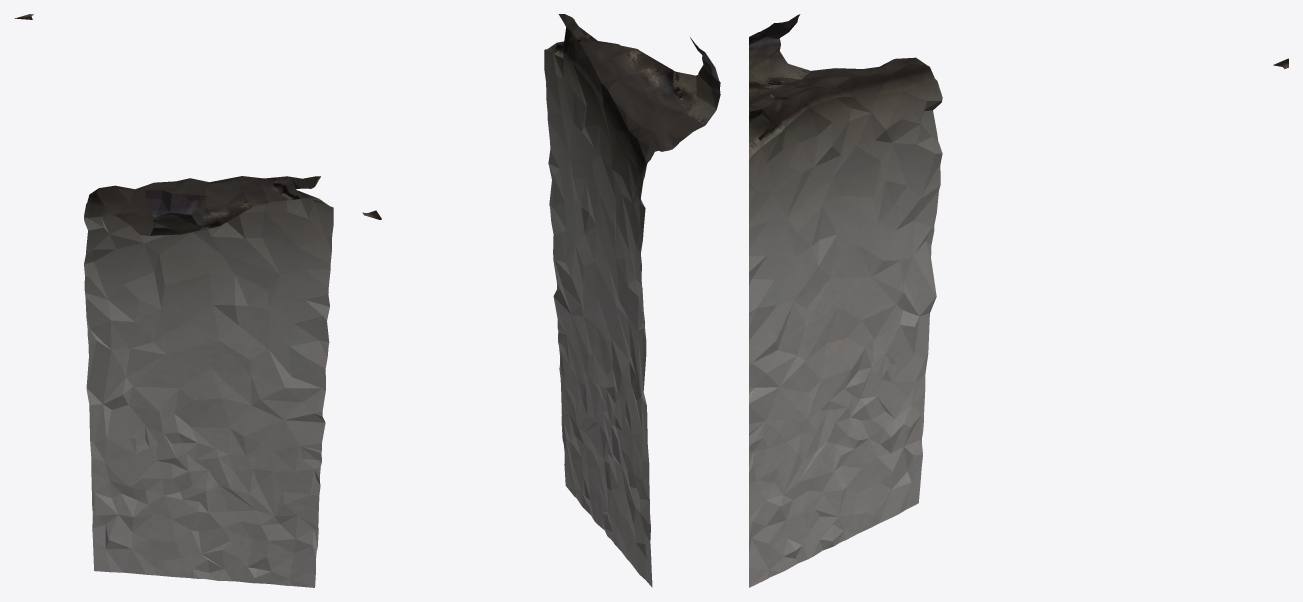
3 views of the same model, side by side, from view 1: azimuth 30°, elevation 25°; view 2: azimuth 150°, elevation 25°; view 3: azimuth 270°, elevation 25° (orthographic). The views are drawn at different scales.
Bounding box in the file's own units: 0.3499 × 0.8373 × 0.8374.
2 materials, 2 textured.
